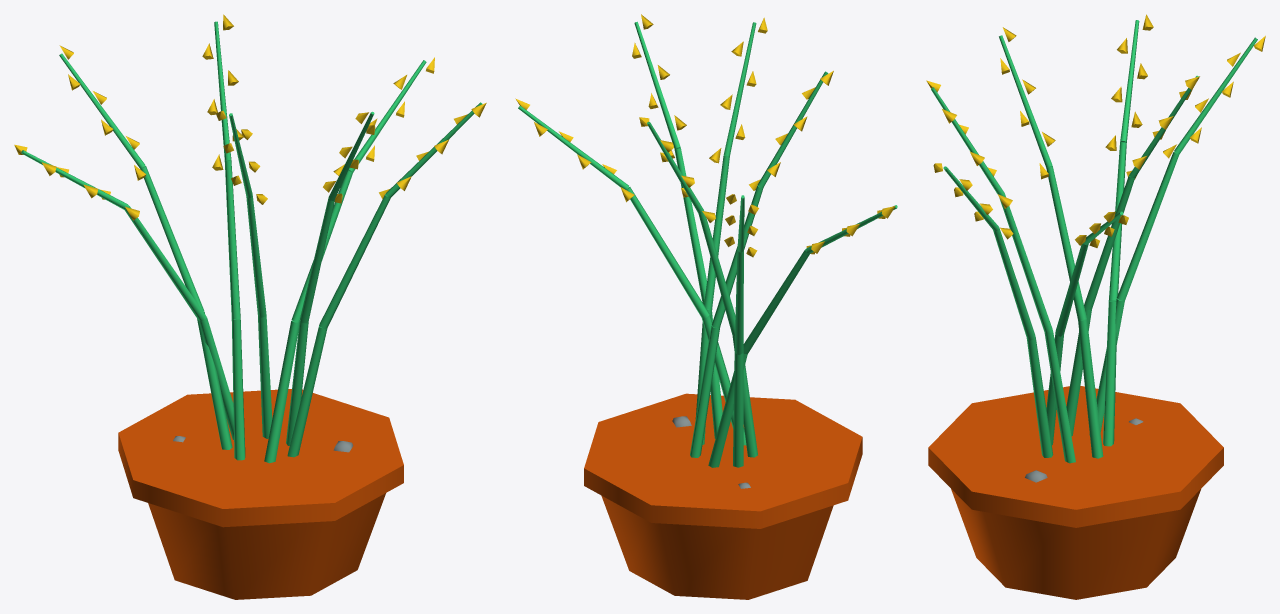
Rendered from rice.glb.
The picture shows the model from 3 angles, left to right: view 1: azimuth 30°, elevation 25°; view 2: azimuth 150°, elevation 25°; view 3: azimuth 270°, elevation 25°; orthographic projection. The views are drawn at different scales.
Visible parts, largest first — view 1: rim, pot, rice_stalk_3, rice_stalk_4, rice_stalk_1, rice_stalk_2, rice_stalk_0, rice_stalk_6, rice_stalk_5; view 2: rim, pot, rice_stalk_6, rice_stalk_2, rice_stalk_0, rice_stalk_1, rice_stalk_4, rice_stalk_3, rice_stalk_5; view 3: rim, pot, rice_stalk_6, rice_stalk_5, rice_stalk_0, rice_stalk_4, rice_stalk_1, rice_stalk_3, rice_stalk_2.
Boxes of the visible parts, bbox=[...] form: rim: bbox=[118, 389, 403, 527]; pot: bbox=[148, 493, 385, 599]; rice_stalk_3: bbox=[202, 14, 245, 460]; rice_stalk_4: bbox=[59, 45, 232, 449]; rice_stalk_1: bbox=[287, 102, 486, 457]; rice_stalk_2: bbox=[264, 57, 434, 463]; rice_stalk_0: bbox=[286, 111, 375, 445]; rice_stalk_6: bbox=[216, 110, 272, 438]; rice_stalk_5: bbox=[14, 144, 233, 439]; rim: bbox=[584, 393, 862, 528]; pot: bbox=[601, 495, 833, 599]; rice_stalk_6: bbox=[690, 70, 833, 457]; rice_stalk_2: bbox=[515, 98, 746, 445]; rice_stalk_0: bbox=[695, 17, 767, 444]; rice_stalk_1: bbox=[632, 14, 722, 438]; rice_stalk_4: bbox=[724, 194, 758, 467]; rice_stalk_3: bbox=[639, 117, 757, 457]; rice_stalk_5: bbox=[708, 205, 897, 467]; rim: bbox=[928, 386, 1223, 527]; pot: bbox=[951, 489, 1200, 599]; rice_stalk_6: bbox=[999, 27, 1103, 458]; rice_stalk_5: bbox=[1103, 14, 1153, 446]; rice_stalk_0: bbox=[926, 80, 1075, 463]; rice_stalk_4: bbox=[1089, 35, 1265, 435]; rice_stalk_1: bbox=[933, 163, 1053, 457]; rice_stalk_3: bbox=[1066, 75, 1199, 436]; rice_stalk_2: bbox=[1046, 211, 1128, 444].
Size of the model in its own units: 1.17 by 1.36 by 0.851.
